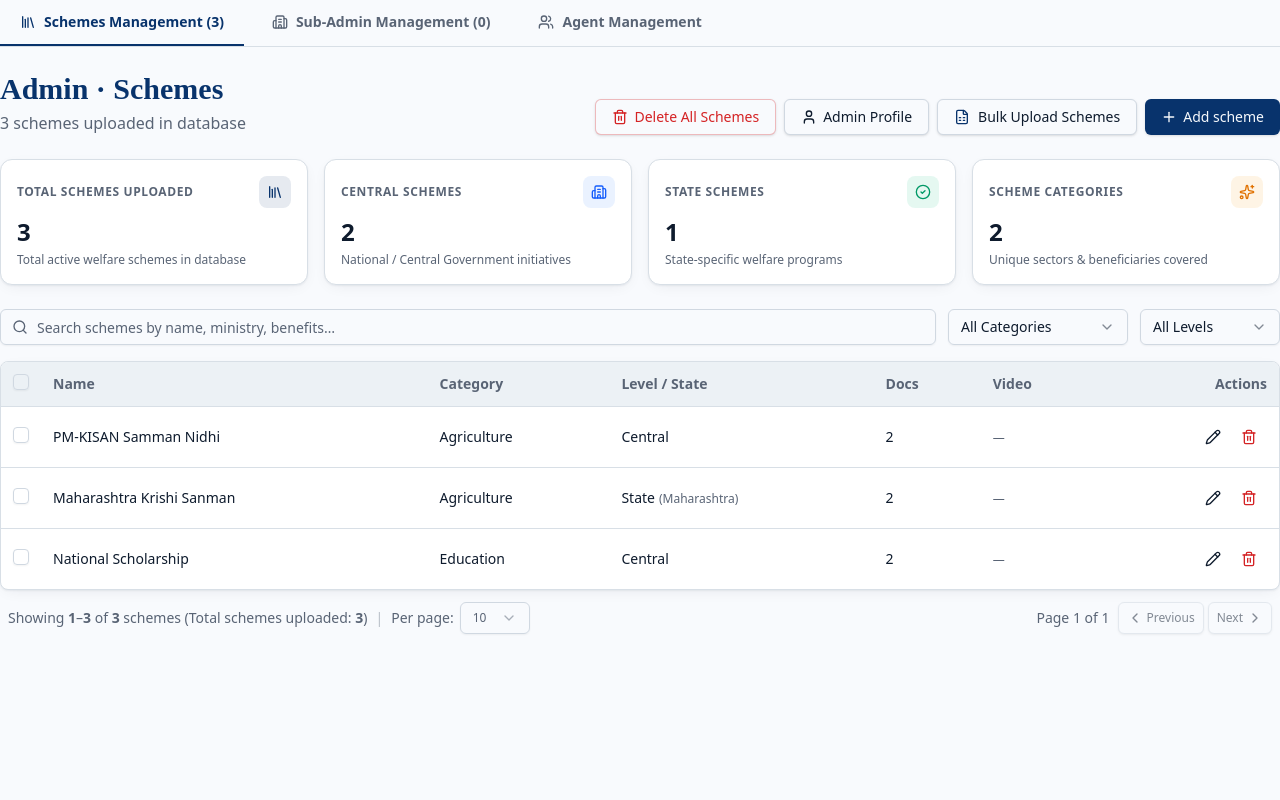
it: Admin Bulk Delete Schemes Functionality › opens confirmation dialog with warning message before deleting
The image size is (1280, 800).
What coordinates should you click on to do the following:
click the checkbox with test id "select-scheme-scheme-1"
I would click on:
 (21, 435)
Its box is [13, 427, 29, 443].
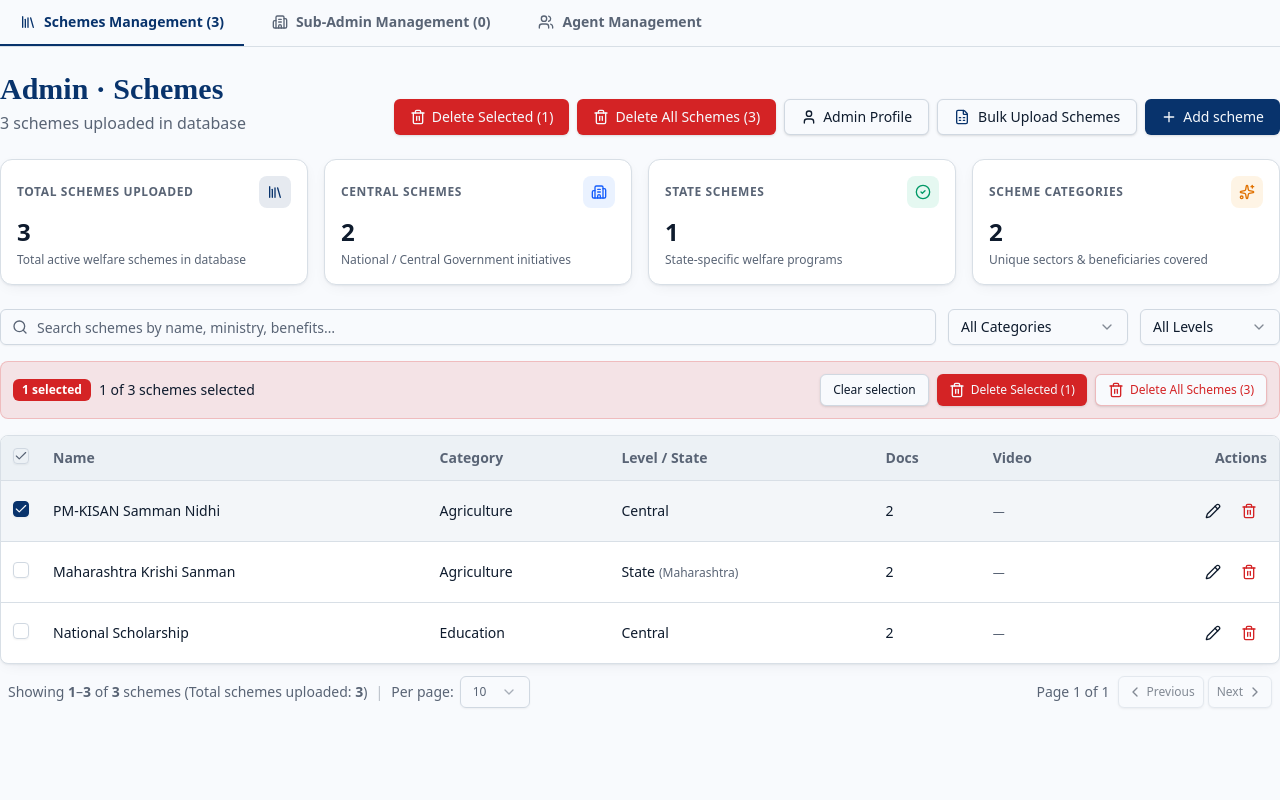
What coordinates should you click on to do the following:
click the checkbox with test id "select-scheme-scheme-3"
I would click on:
 (21, 631)
Its box is [13, 623, 29, 639].
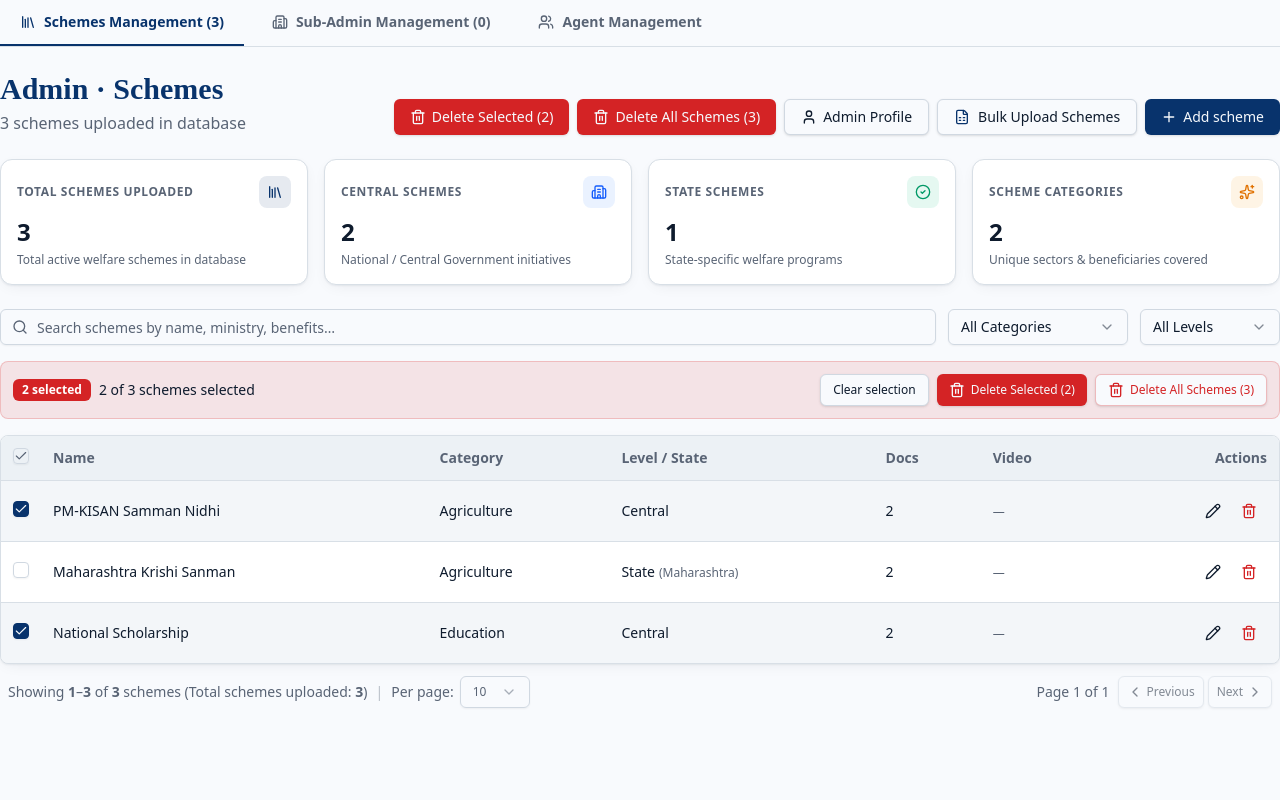
What coordinates should you click on to do the following:
click the button with test id "bulk-delete-button"
I would click on:
 (1012, 390)
Its box is [937, 374, 1087, 406].
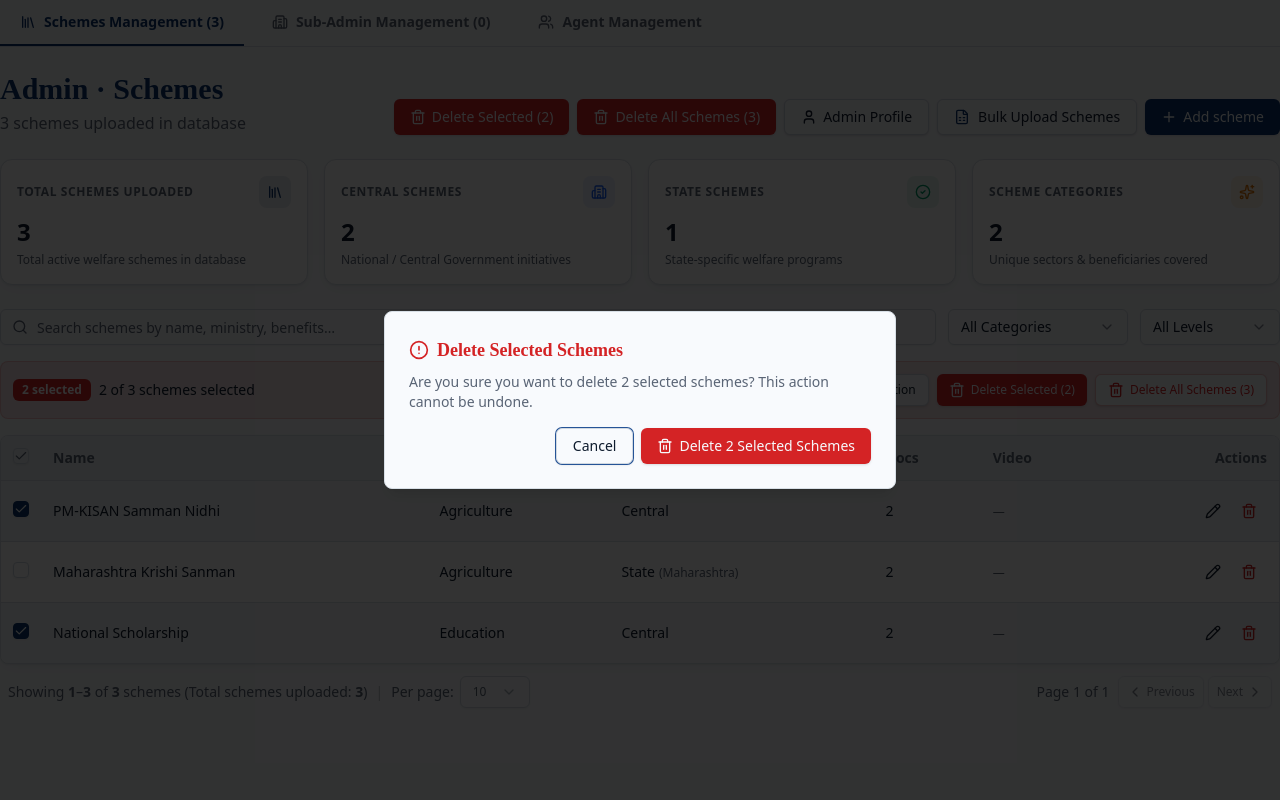
expect the text "Are you sure you want to delete 2 selected schemes? This action cannot be undone." is shown: met, box [409, 372, 871, 412]
Test Cancel button closes dialog
What coordinates should you click on to do the following:
click the button "Cancel"
I would click on:
 (595, 446)
Its box is [556, 428, 634, 464].
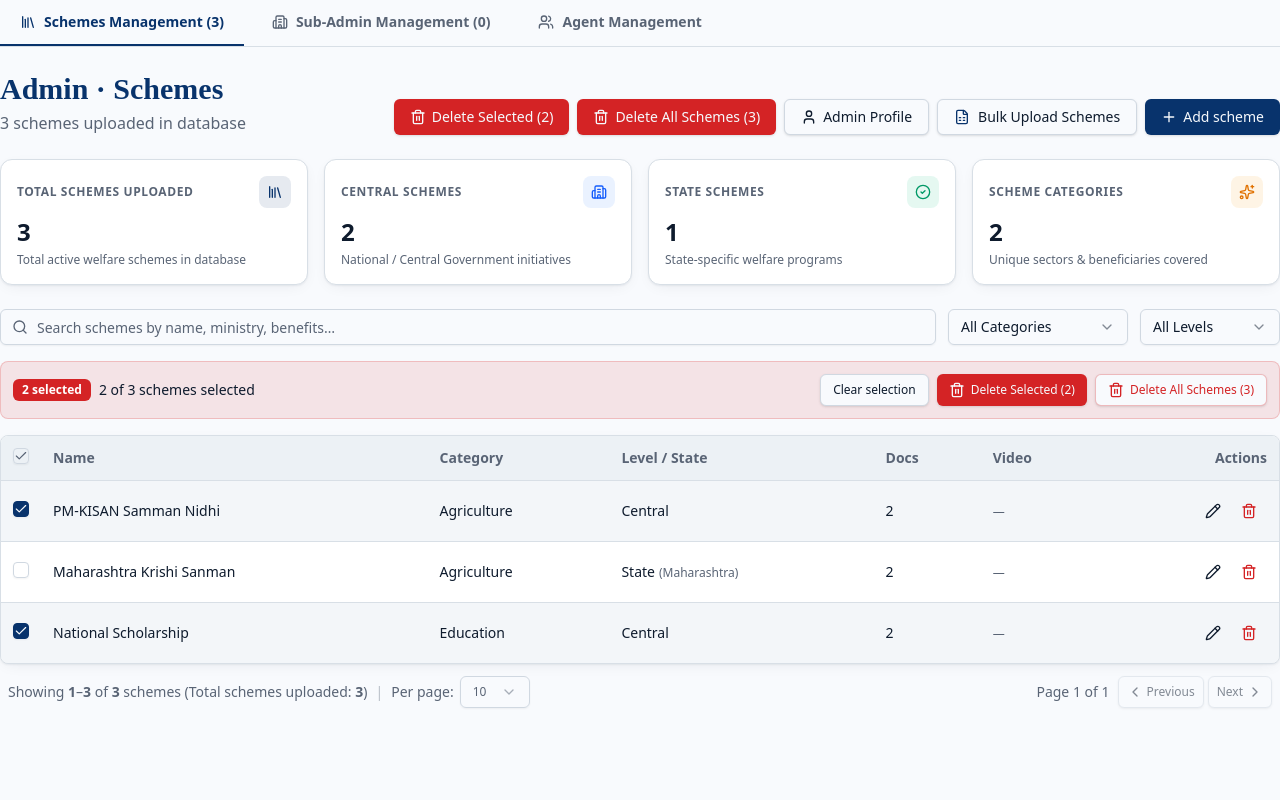
expect the text "Are you sure you want to delete 2 selected schemes?" is gone: met
